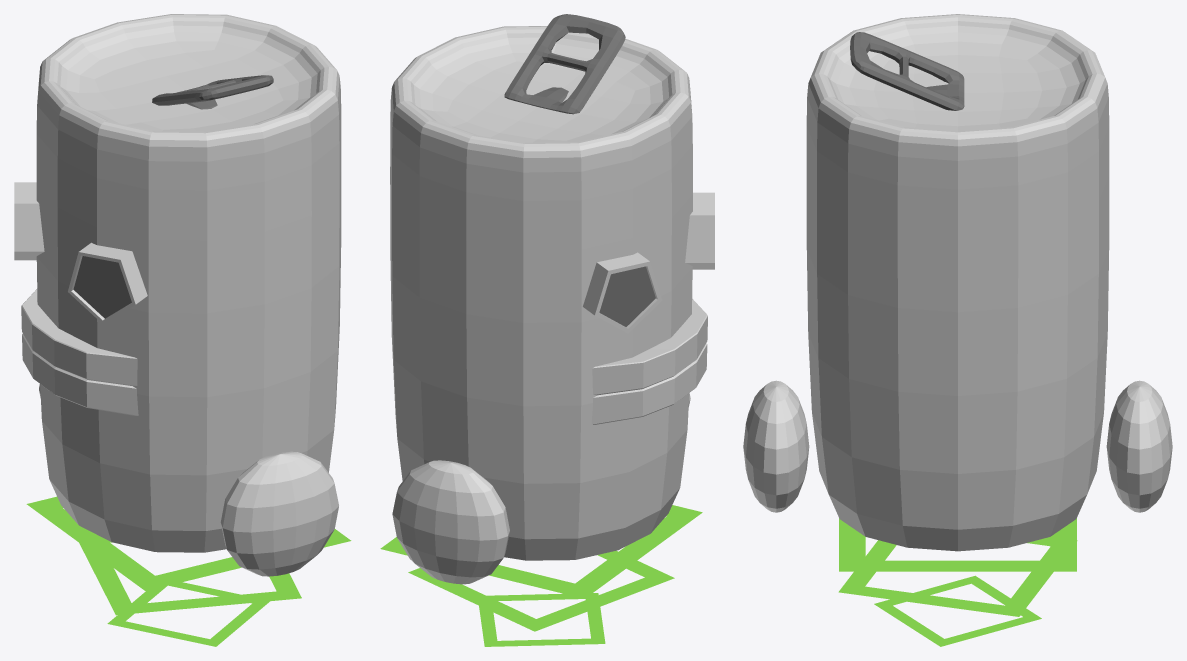
The model's file is WaiterCan.glb.
3 renders of one model, left to right at view 1: azimuth 30°, elevation 25°; view 2: azimuth 150°, elevation 25°; view 3: azimuth 270°, elevation 25°, orthographic.
Parts seen in each view (by area): view 1: Cube, Sphere.001, Cube.002, Cylinder, Plane, Cube.001, Plane.001, Plane.002, Cylinder.001, Cube.003; view 2: Cube, Sphere.002, Cube.003, Cube.002, Cylinder.001, Plane, Plane.001, Cube.001, Plane.002, Cylinder; view 3: Cube, Sphere.001, Sphere.002, Plane, Cube.003, Plane.001, Plane.002.
Part boxes in pixels (x1,y1,x2,y2): Cube: [36, 14, 341, 552]; Sphere.001: [220, 451, 338, 576]; Cube.002: [21, 289, 137, 385]; Cylinder: [68, 242, 147, 324]; Plane: [26, 496, 351, 590]; Cube.001: [22, 334, 138, 415]; Plane.001: [79, 539, 301, 615]; Plane.002: [107, 582, 269, 646]; Cylinder.001: [14, 182, 44, 260]; Cube.003: [152, 75, 273, 109]; Cube: [390, 26, 692, 560]; Sphere.002: [392, 460, 509, 584]; Cube.003: [504, 14, 625, 114]; Cube.002: [592, 299, 707, 395]; Cylinder.001: [583, 252, 662, 333]; Plane: [380, 505, 702, 598]; Plane.001: [408, 550, 674, 631]; Cube.001: [591, 343, 707, 424]; Plane.002: [479, 593, 605, 646]; Cylinder: [685, 192, 714, 269]; Cube: [806, 14, 1109, 551]; Sphere.001: [743, 380, 809, 512]; Sphere.002: [1106, 380, 1172, 512]; Plane: [839, 518, 1076, 571]; Cube.003: [850, 32, 964, 110]; Plane.001: [838, 537, 1077, 616]; Plane.002: [874, 575, 1041, 646].
Size of the model in its own units: 1.95 by 3.79 by 2.6.
